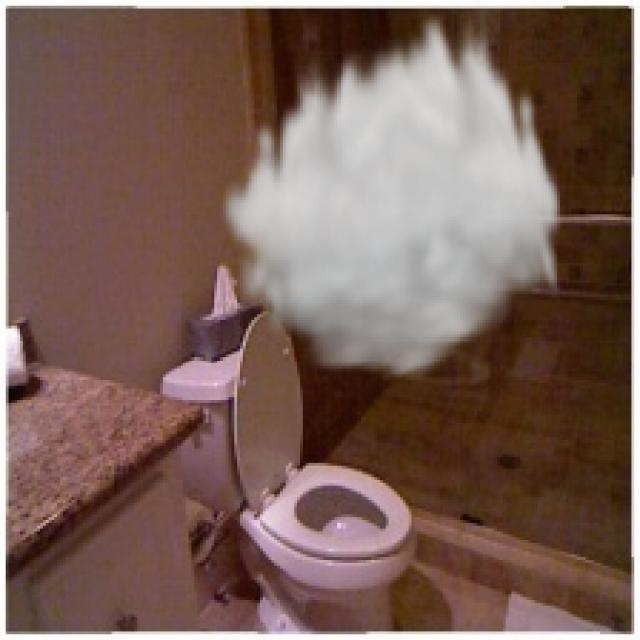smoke: (217, 0, 566, 386)
